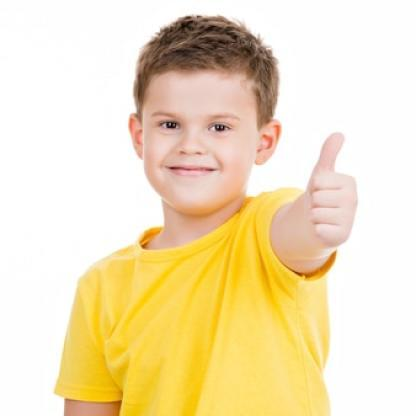thumb_up: (294, 126, 365, 254)
